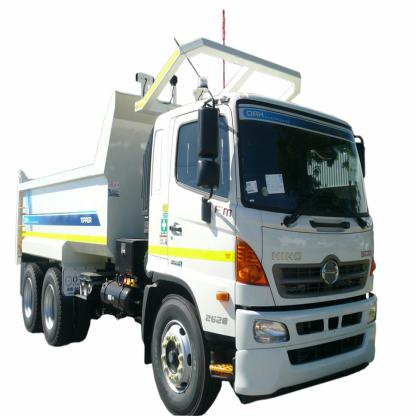dump_truck: (12, 31, 382, 411)
